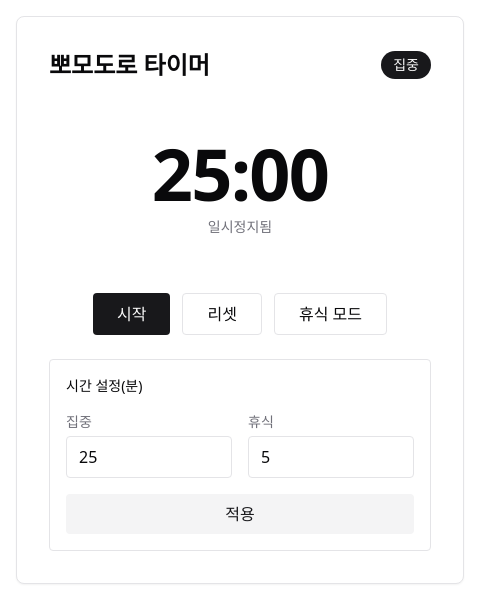
it: Pomodoro page › 시작 버튼을 누르면 타이머가 작동하고 일시정지할 수 있다
Click the button "시작". click: (132, 314)
box: left=93, top=293, right=170, bottom=335
Wait 1000 ms
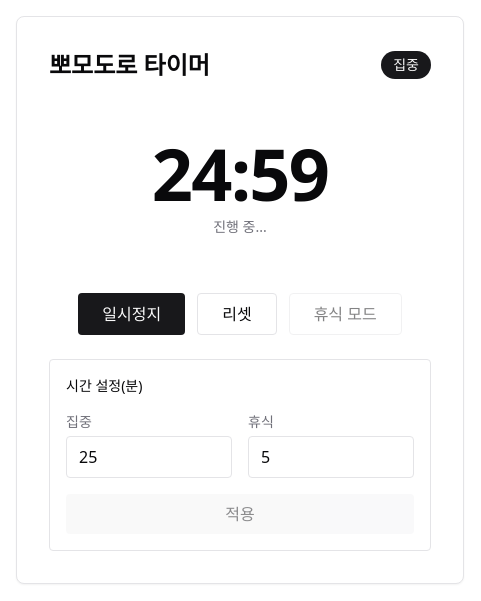
Expected: the text "진행 중..." is shown, left=213, top=217, right=267, bottom=237
Expected: the text "24:59" is shown, left=152, top=137, right=328, bottom=209
Click the button "일시정지". click: (132, 314)
box: left=78, top=293, right=185, bottom=335
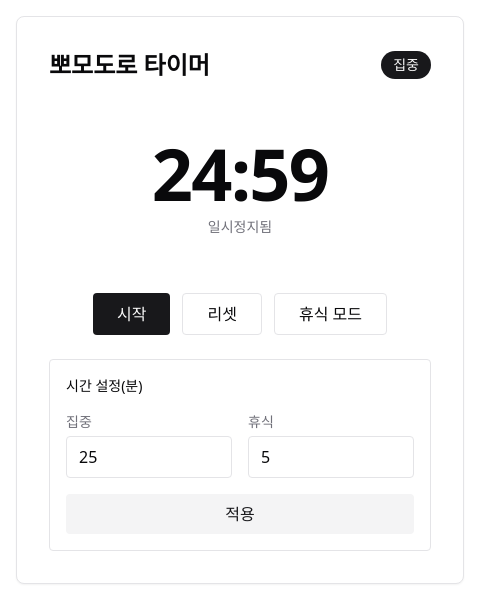
Expected: the text "일시정지됨" is shown, left=208, top=217, right=272, bottom=237
